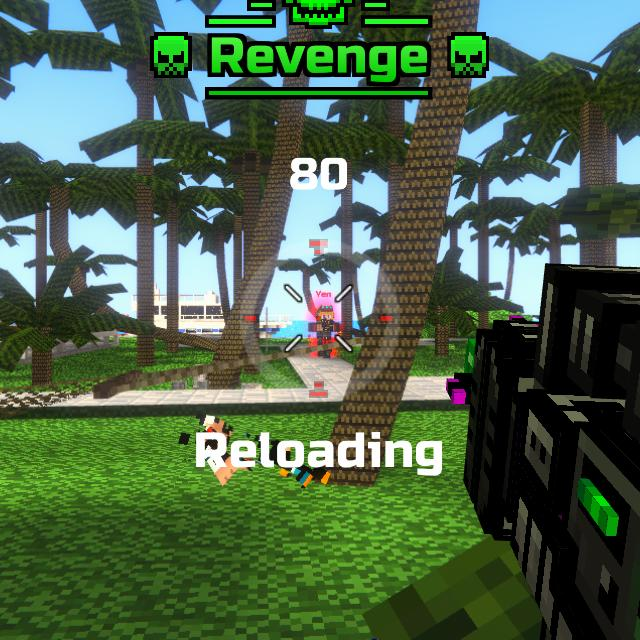Enemy: (310, 306, 340, 360)
